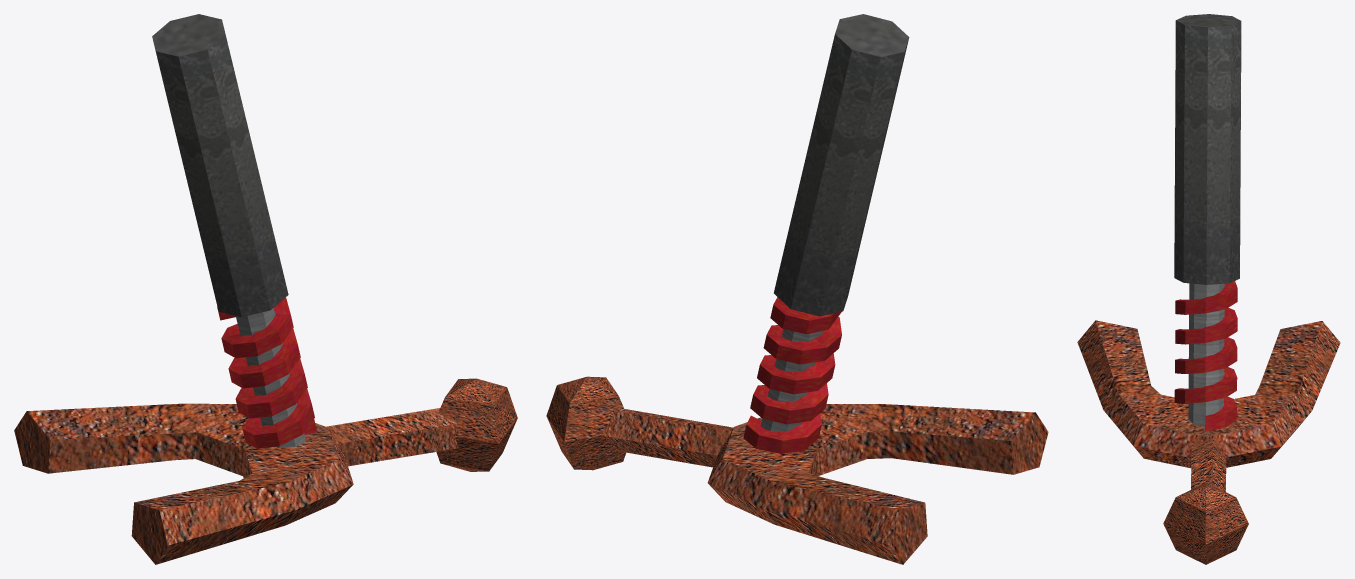
The model's file is shock_absorber_1.fbx.
The picture shows the model from 3 angles, left to right: view 1: azimuth 30°, elevation 25°; view 2: azimuth 150°, elevation 25°; view 3: azimuth 270°, elevation 25°; orthographic projection. The views are drawn at different scales.
Visible parts, largest first — view 1: arm, sa_chasis, sa_spring, sa_rod; view 2: arm, sa_chasis, sa_spring, sa_rod; view 3: arm, sa_chasis, sa_spring, sa_rod.
Part boxes in pixels (x1,y1,x2,y2): arm: [14, 378, 517, 564]; sa_chasis: [152, 14, 288, 317]; sa_spring: [217, 297, 317, 448]; sa_rod: [236, 308, 305, 447]; arm: [546, 376, 1048, 564]; sa_chasis: [774, 14, 909, 316]; sa_spring: [743, 297, 841, 453]; sa_rod: [760, 311, 822, 431]; arm: [1077, 320, 1340, 564]; sa_chasis: [1174, 14, 1241, 284]; sa_spring: [1174, 281, 1237, 431]; sa_rod: [1188, 283, 1224, 426].
Bounding box in the file's own units: 499 × 315 × 571.
1 material, 1 textured.
